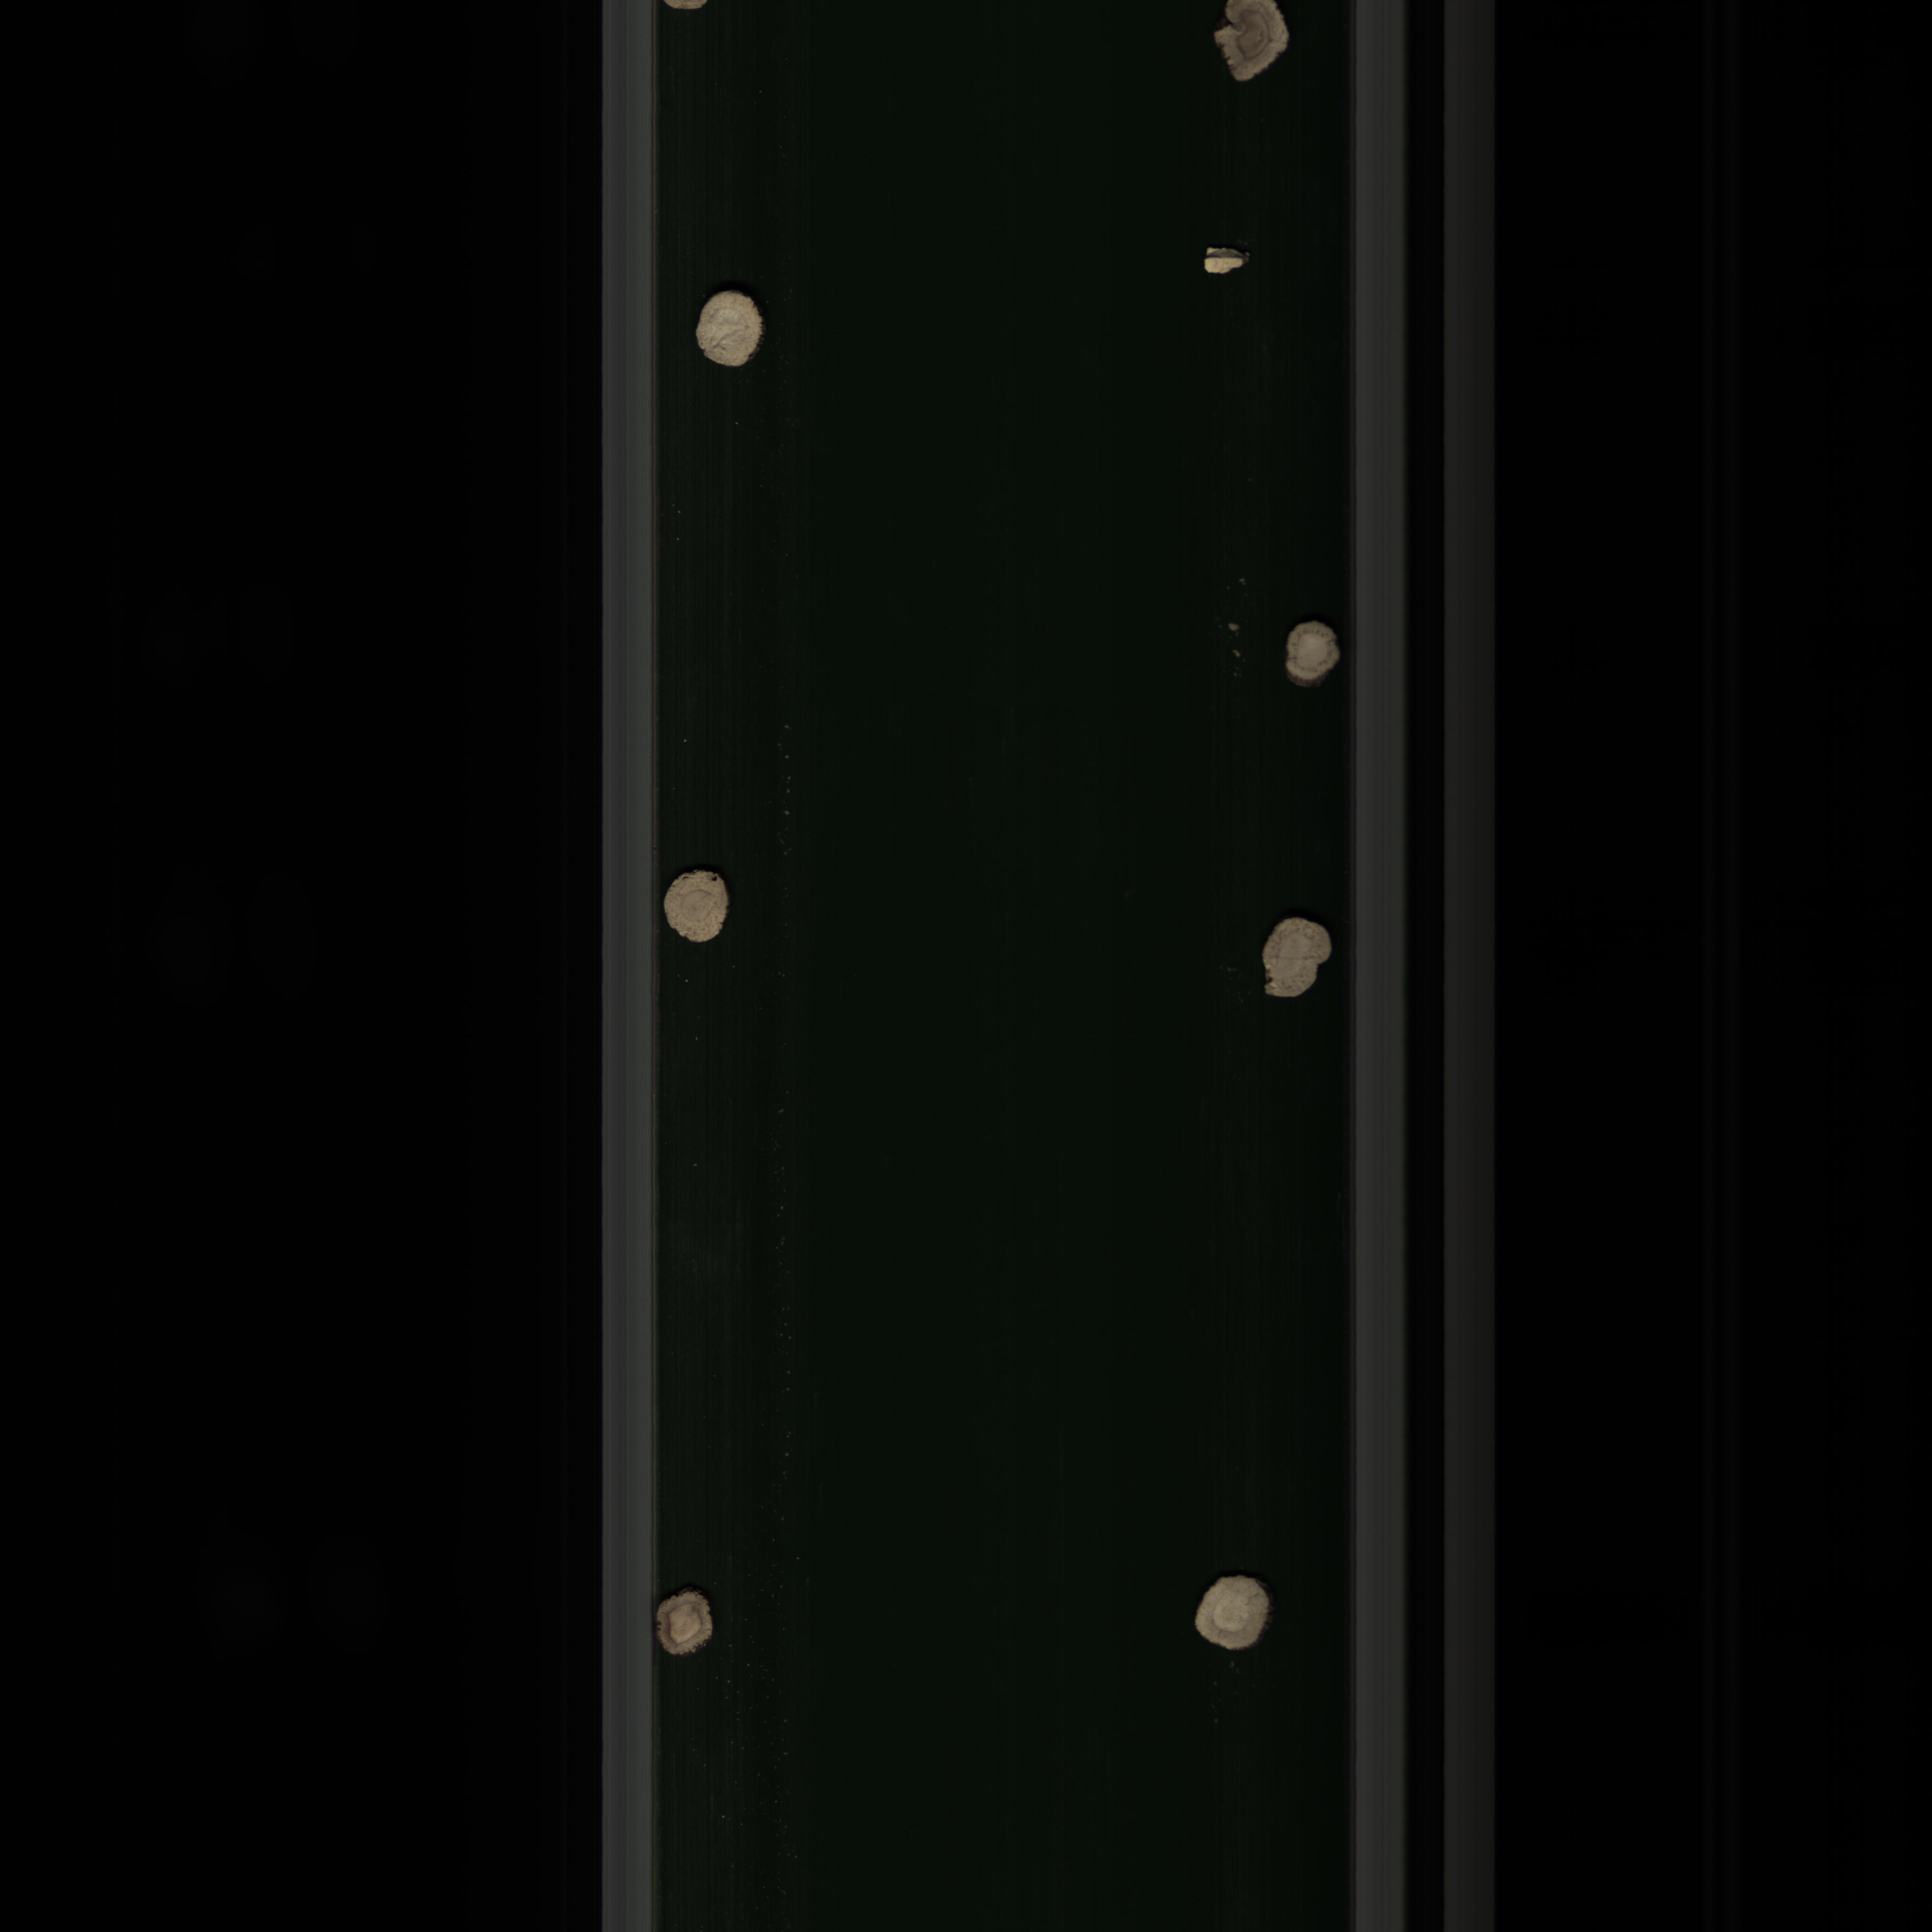debris: (1246, 913, 1338, 1007), (1191, 246, 1249, 283)
moldy: (1196, 0, 1299, 96), (651, 1589, 724, 1654)
